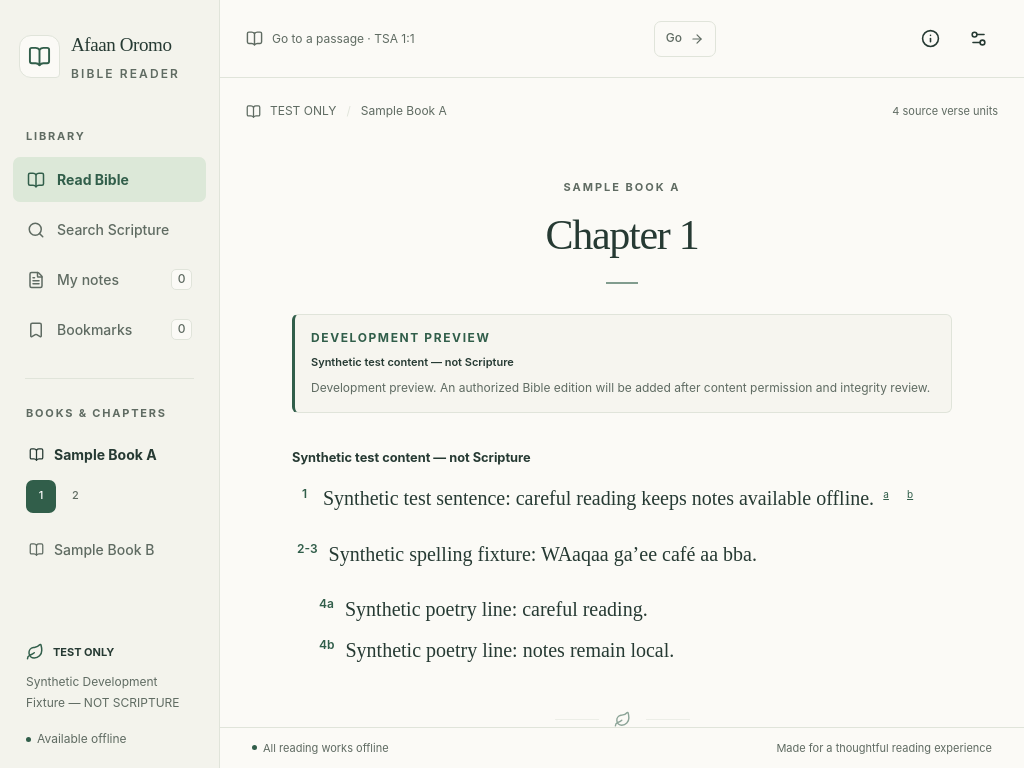
Scenario: clipboard failure recovery › keeps the full formatted quotation selectable when clipboard access fails
Check: the heading "Chapter 1" is shown, box [546, 212, 698, 258]
Click the button named "Select verse Sample Book A 1:1".
click(304, 494)  # box [292, 482, 317, 506]
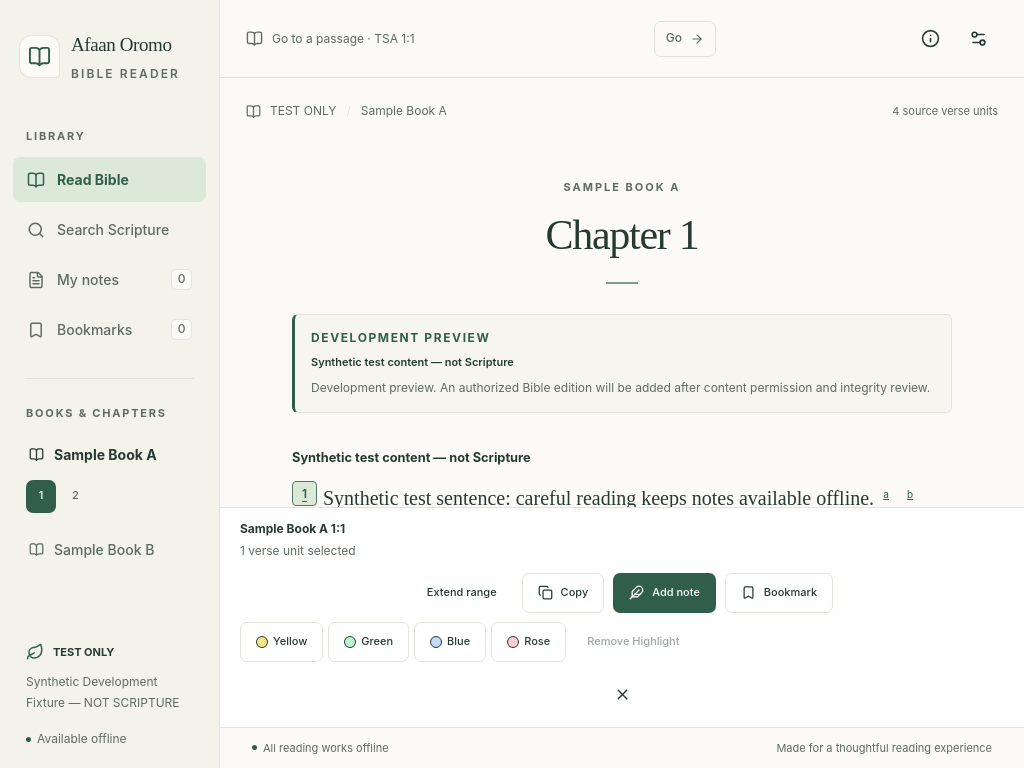
Click the button "Copy".
click(563, 592)  # box [522, 572, 604, 612]
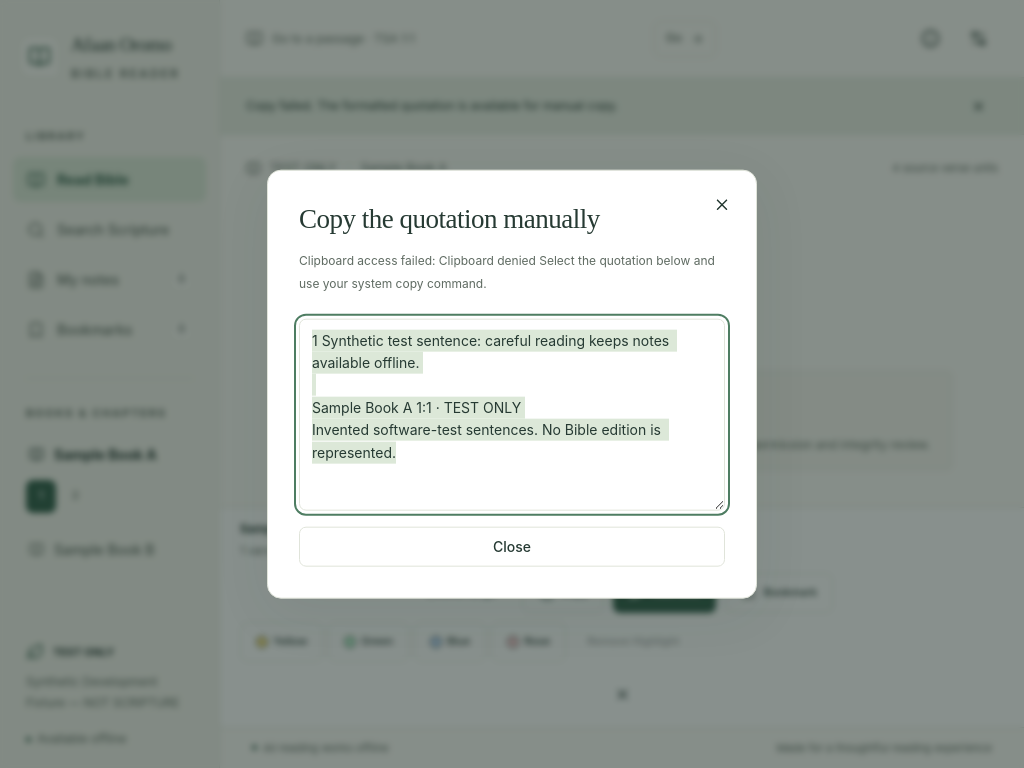
Check: the dialog "Copy the quotation manually" shows "Clipboard denied", box [299, 253, 715, 291]
